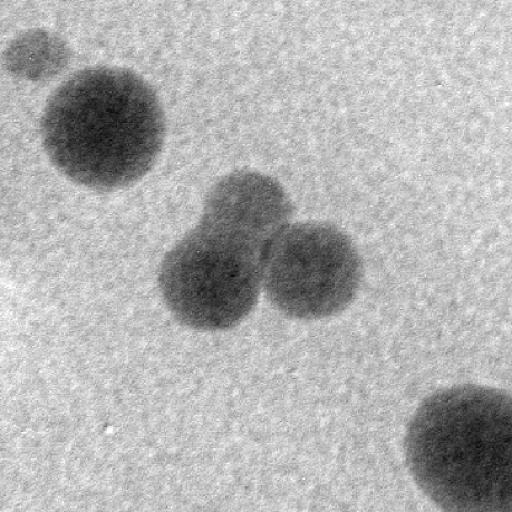Nanoparticles: (42, 66, 170, 193), (400, 380, 512, 512), (152, 223, 267, 334), (261, 222, 369, 322), (203, 165, 290, 234), (4, 26, 64, 82)
